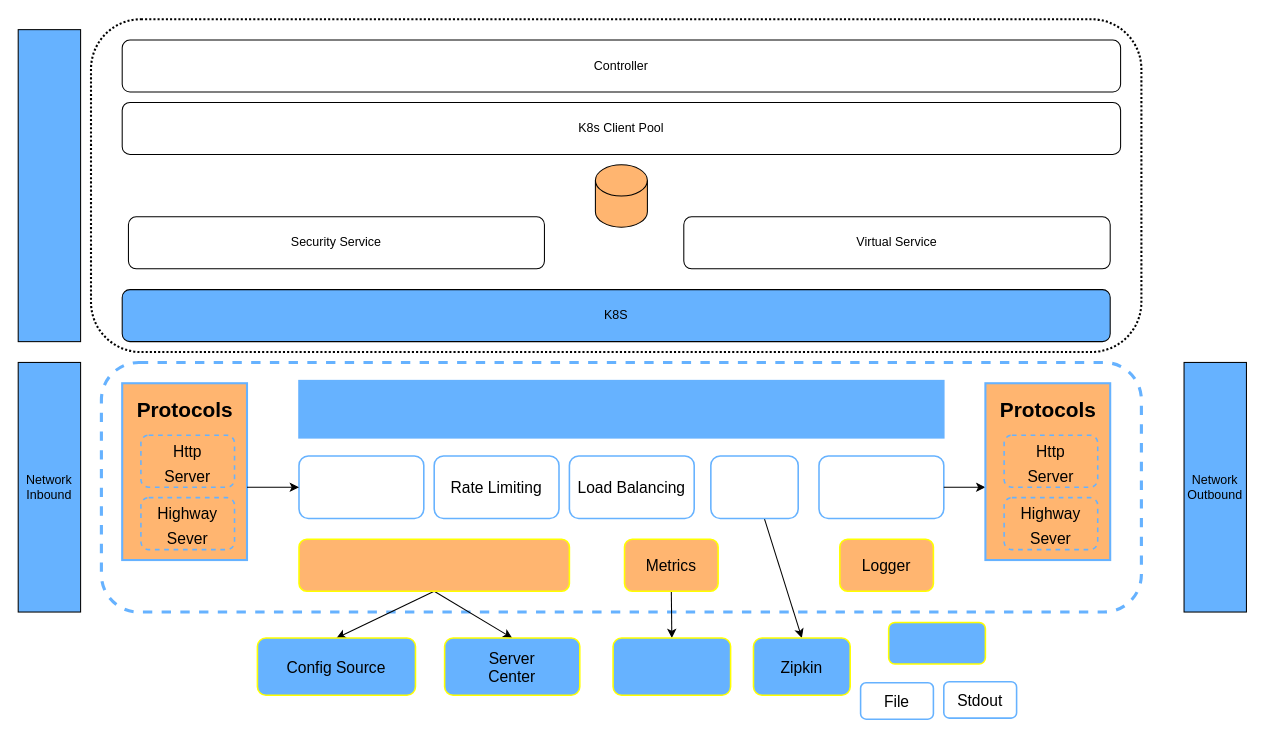
The diagram is 1265 pixels wide and 737 high, and some of its shapes have lost their labels. Here are the shapes that lost their labels. From the top down, the centre of each, then its label:
the point at 49,185: Wire
the point at 620,195: DB
the point at 621,408: Handler Chain
the point at 361,487: Circuit Breaker
the point at 754,487: Tracing
the point at 881,487: Transport
the point at 434,565: Nacos
the point at 936,642: Writer
the point at 671,666: Prometheus
